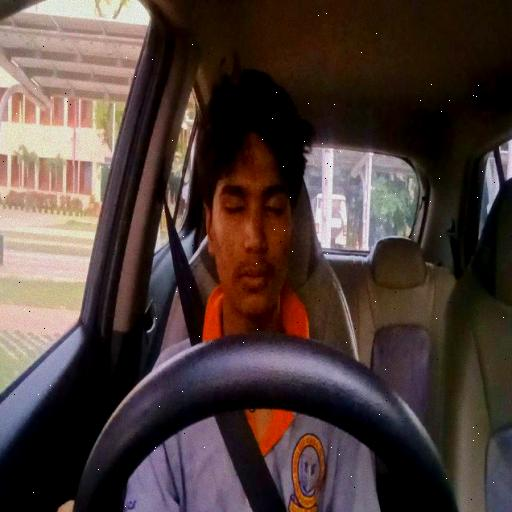sleepy: (191, 72, 309, 326)
